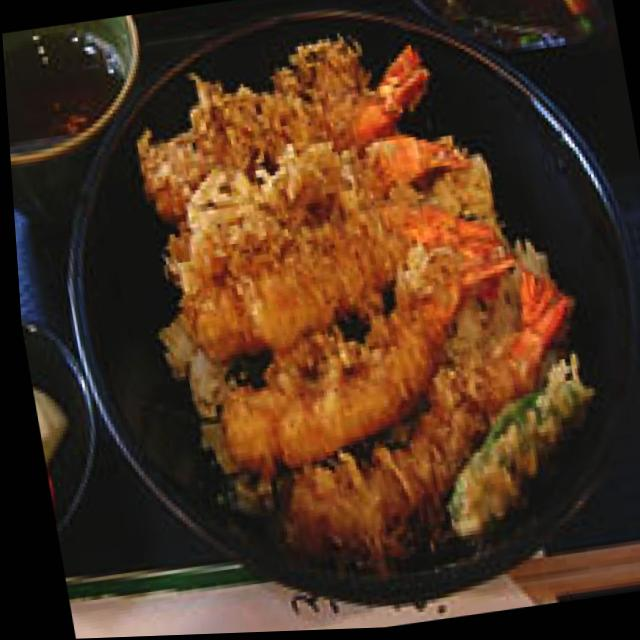熟制海鲜: (23, 0, 640, 639)
